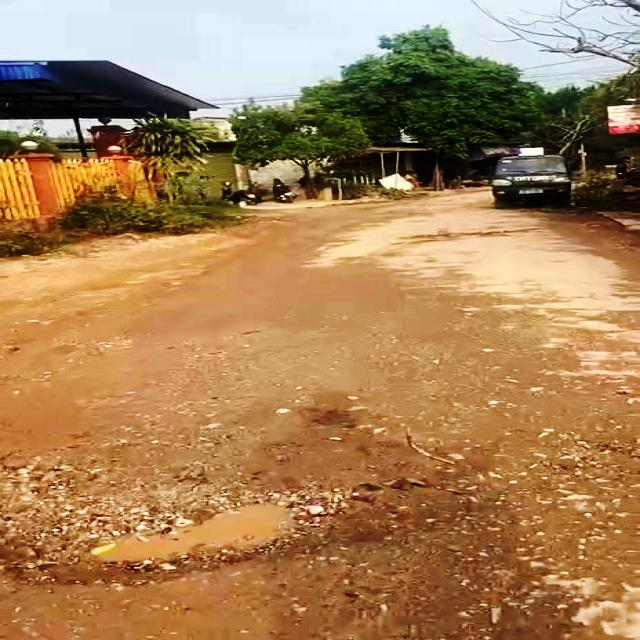pothole: (0, 480, 350, 586)
